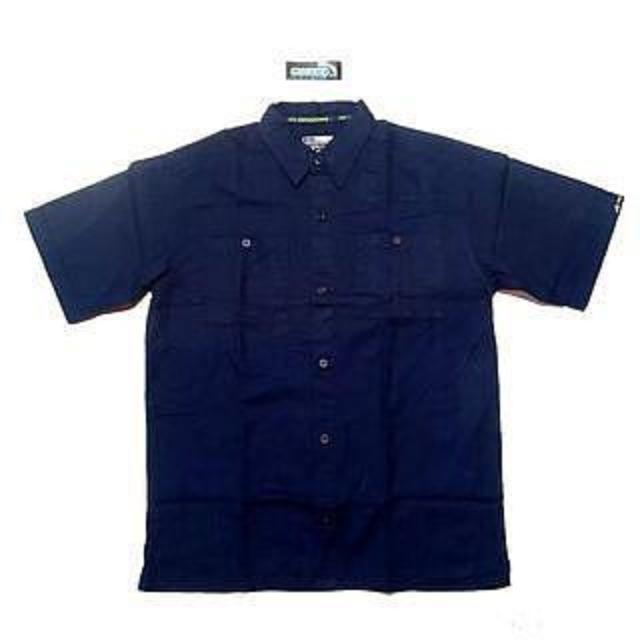SHIRT: (14, 94, 633, 603)
